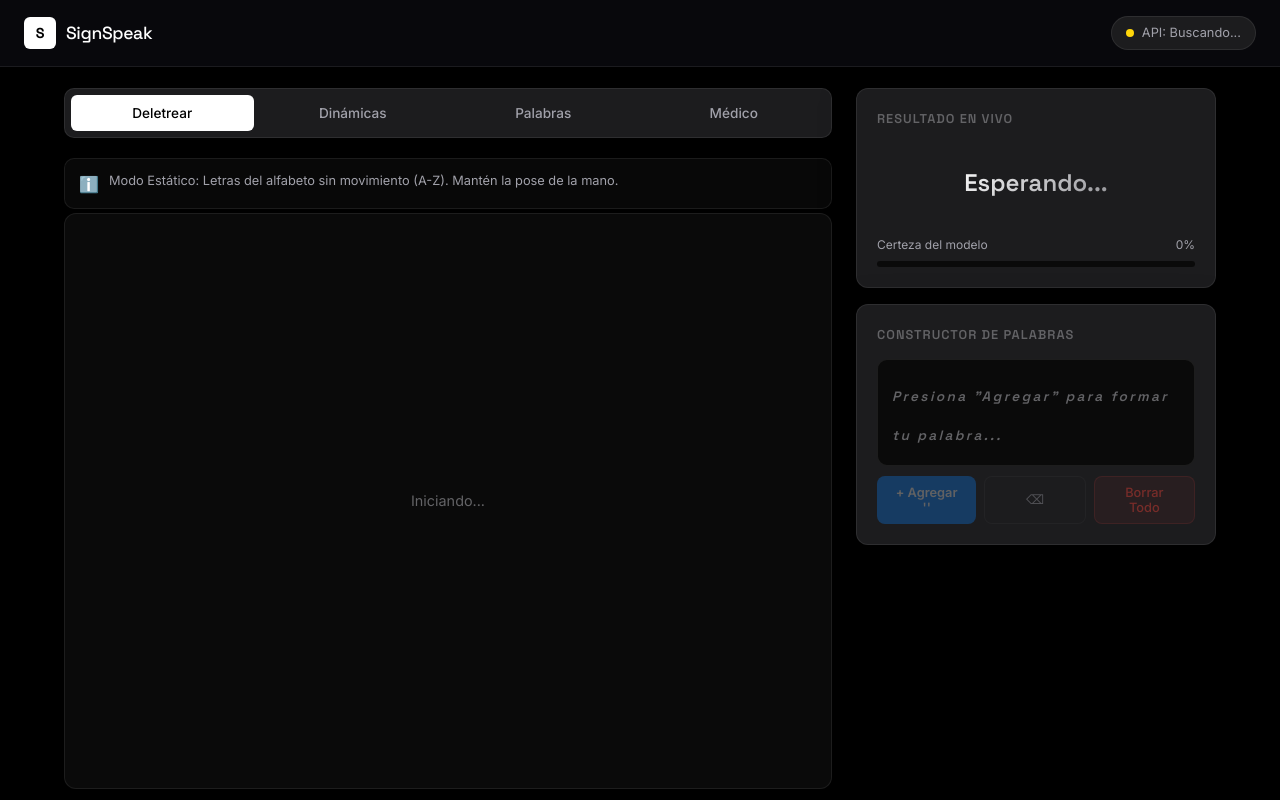
Test: SignSpeak Integration Tests › 3. should switch between modes and reset state
// Switch to Words mode
Click the button "Palabras" at (543, 113), box [452,95,634,131]
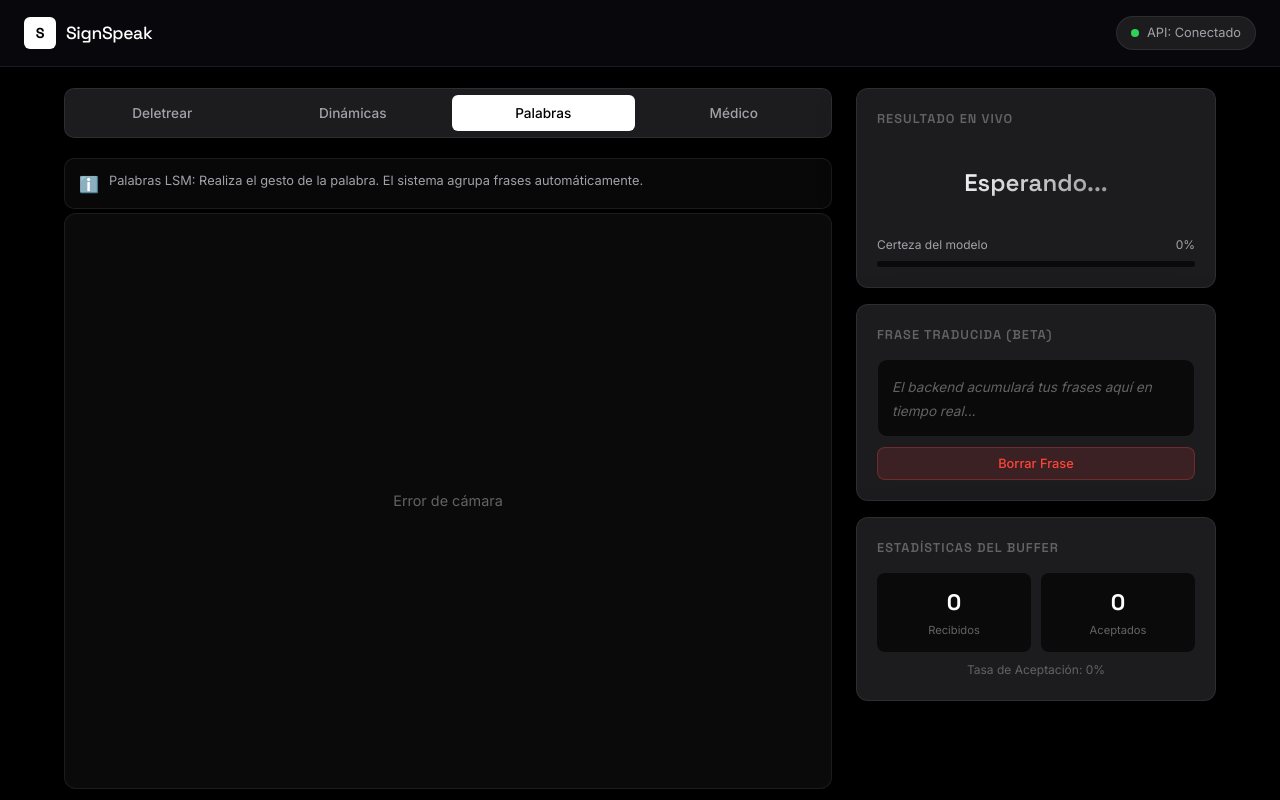
Check: the text "Palabras LSM: Realiza el gesto de la palabra" is shown, box [109,173,643,188]
Check: the heading "Constructor de Palabras" is gone
Check: the heading "Frase Traducida (BETA)" is shown, box [877,326,1052,343]
